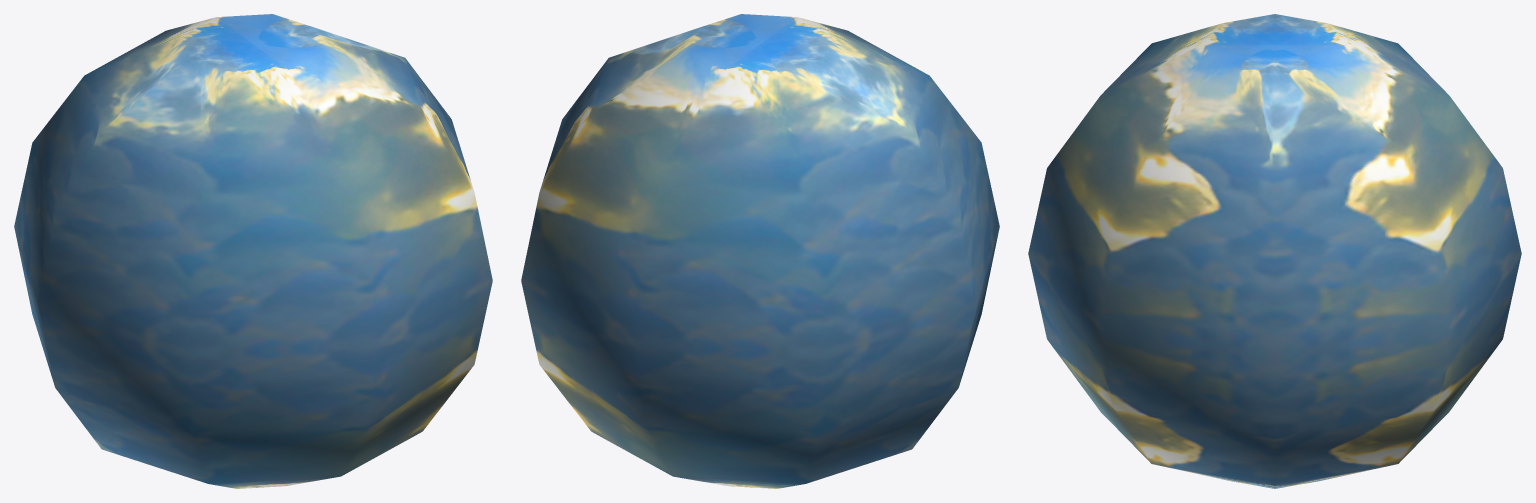
File: insideOutSphere.fbx
3 renders of one model, left to right at view 1: azimuth 30°, elevation 25°; view 2: azimuth 150°, elevation 25°; view 3: azimuth 270°, elevation 25°, orthographic.
Parts seen in each view (by area): view 1: Sphere; view 2: Sphere; view 3: Sphere.
Boxes of the visible parts, x1=… form: Sphere: x1=14, y1=14, x2=492, y2=488; Sphere: x1=521, y1=14, x2=999, y2=488; Sphere: x1=1028, y1=14, x2=1521, y2=488.
Size of the model in its own units: 1600 by 1492 by 1600.
